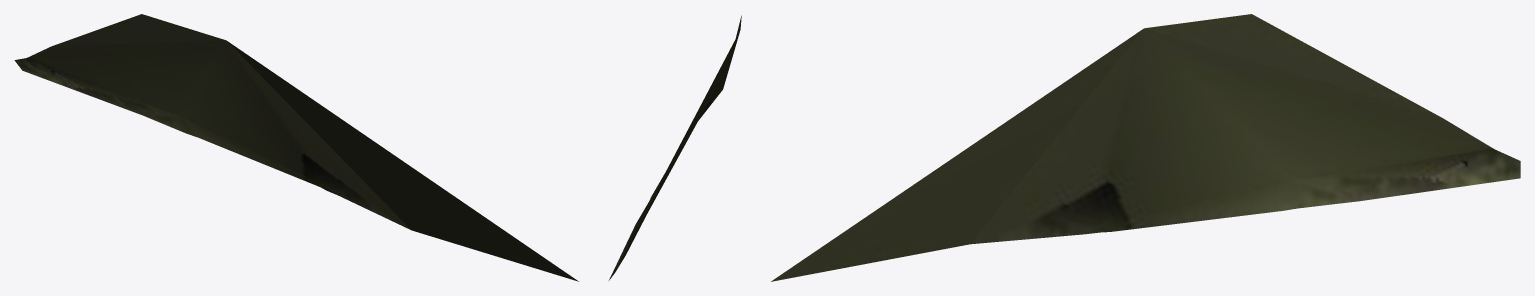
3 renders of one model, left to right at view 1: azimuth 30°, elevation 25°; view 2: azimuth 150°, elevation 25°; view 3: azimuth 270°, elevation 25°, orthographic. The views are drawn at different scales.
Bounding box in the file's own units: 8.52 × 6.01 × 25.07.
1 material, 1 textured.
